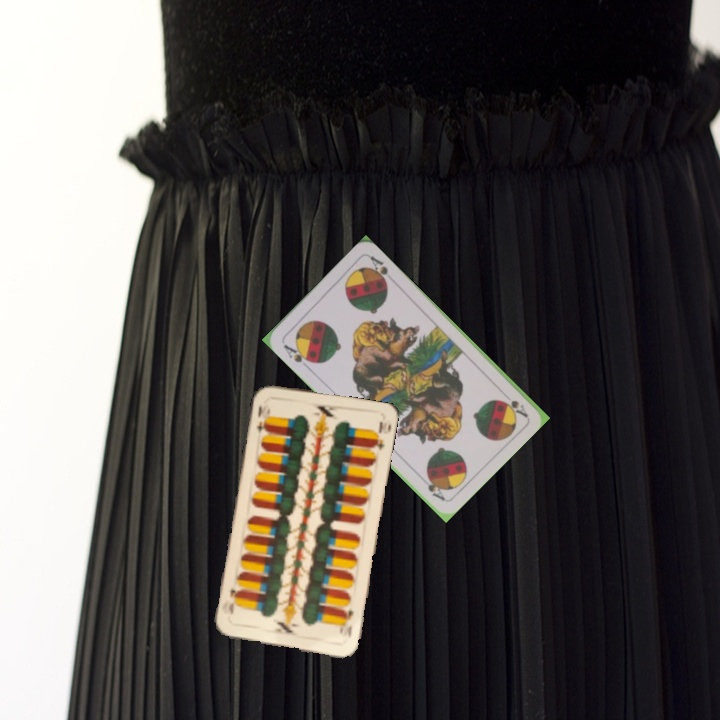E10: (252, 401, 273, 434), (341, 605, 356, 640)
SA: (279, 340, 316, 371), (500, 396, 530, 420)
